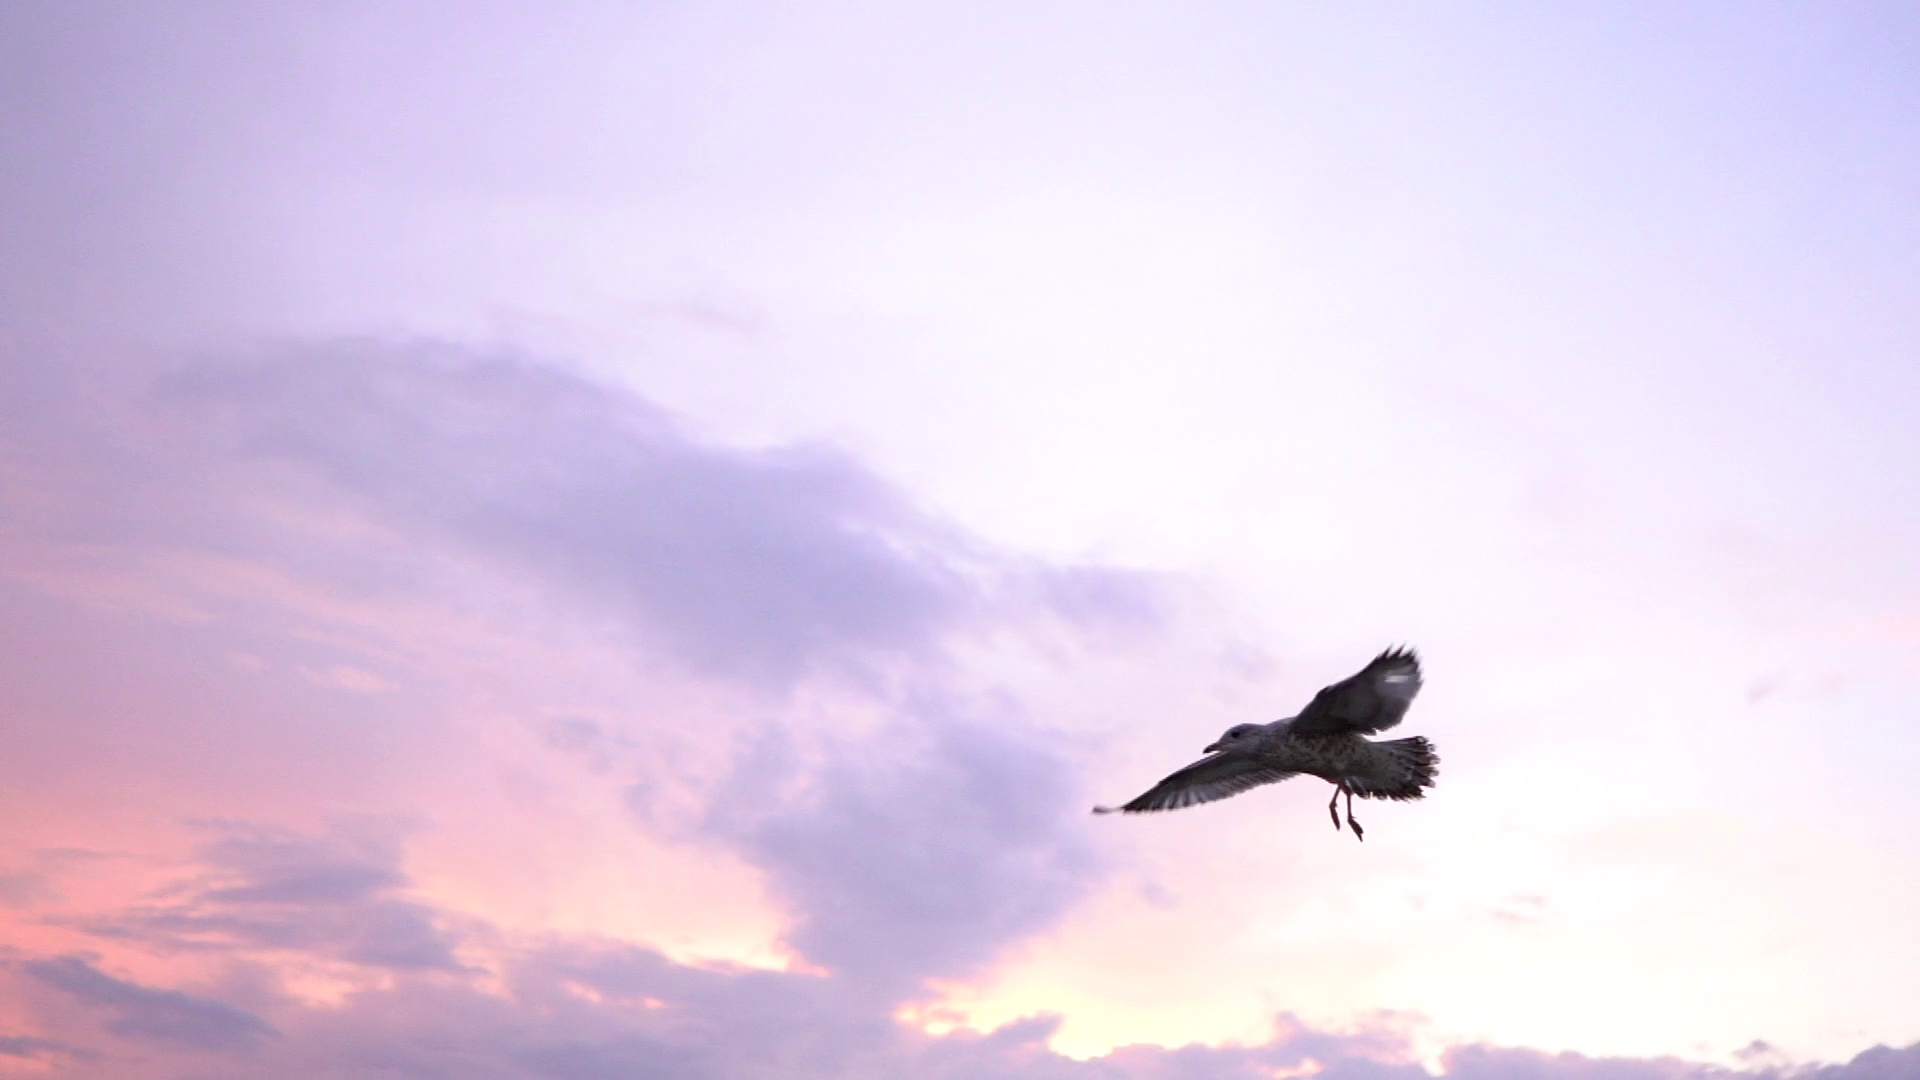bird: (1091, 642, 1437, 837)
